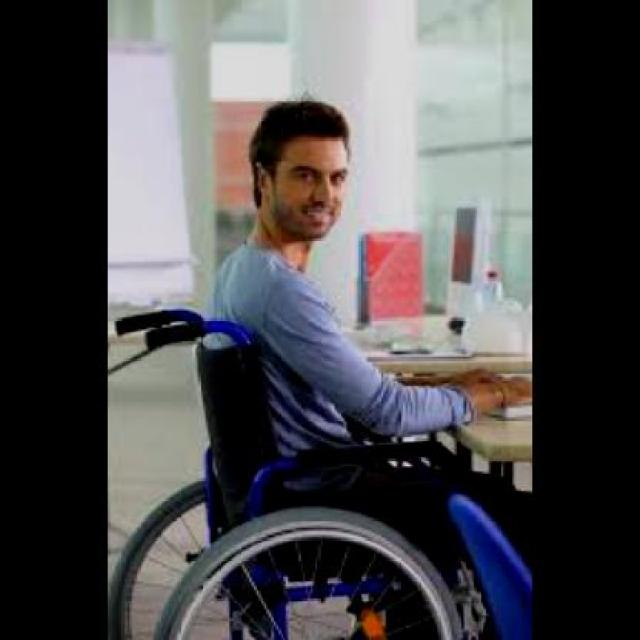wheelchairs: (116, 309, 503, 640)
